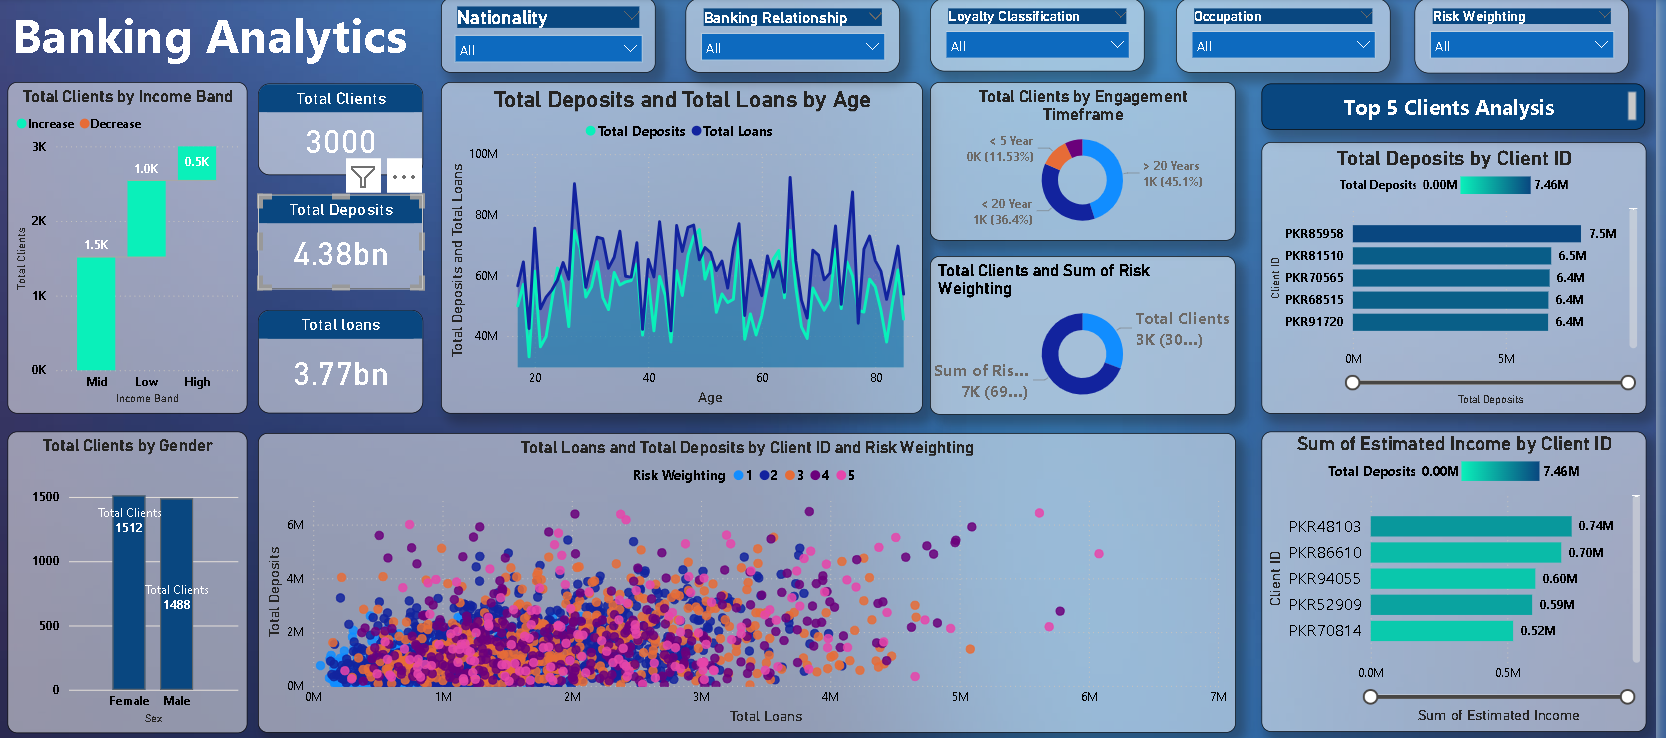

The dashboard page shown, as its layout file describes it:
{"tool":"powerbi","page":{"name":" visualization ","canvas":[1700,770],"ordinal":0},"visuals":[{"type":"card","title":"Total Clients","fields":{"Values":["Basic Calculations.Total Clients"]},"box":[267.6,87.7,169.2,93.8],"z":0},{"type":"textbox","box":[10.2,0,426.5,75.1],"z":1000},{"type":"slicer","fields":{"Values":["Banking_Clients.Nationality"]},"box":[455.7,0,220.2,76.4],"z":2000},{"type":"slicer","fields":{"Values":["Banking_Clients.Loyalty Classification"]},"box":[957.3,0,220.2,75.1],"z":3000},{"type":"slicer","fields":{"Values":["Banking_Clients.Occupation"]},"box":[1208.1,0,220.2,76.4],"z":4000},{"type":"slicer","fields":{"Values":["Banking_Clients.Risk Weighting"]},"box":[1453.8,0,220.2,77.7],"z":5000},{"type":"card","title":"Total Deposits","fields":{"Values":["Basic Calculations.Total Loans"]},"box":[267.6,201.5,169.2,96.9],"z":6000},{"type":"card","title":"Total loans","fields":{"Values":["Basic Calculations.Total Deposits"]},"box":[267.6,319.9,169.2,106.1],"z":7000},{"type":"clusteredBarChart","fields":{"Y":["Basic Calculations.Total Deposits"],"Category":["Banking_Clients.Client ID"]},"box":[1297.2,147.7,394.6,278.8],"z":8000},{"type":"textbox","box":[1297.2,87.8,393.4,47.1],"z":9000},{"type":"clusteredBarChart","fields":{"Category":["Banking_Clients.Client ID"],"Y":["Sum(Banking_Clients.Estimated Income)"]},"box":[1297.2,444.3,394.6,308.1],"z":10000},{"type":"areaChart","fields":{"Category":["Banking_Clients.Age"],"Y":["Basic Calculations.Total Deposits","Basic Calculations.Total Loans"]},"box":[455.2,86.1,493.7,339.9],"z":11000},{"type":"slicer","fields":{"Values":["Banking_Clients.Banking Relationship"]},"box":[706.5,0,220.2,76.4],"z":12000},{"type":"scatterChart","fields":{"Series":["Banking_Clients.Risk Weighting"],"X":["Basic Calculations.Total Loans"],"Y":["Basic Calculations.Total Deposits"],"Category":["Banking_Clients.Client ID"]},"box":[267.6,446,1002.8,307.6],"z":13000},{"type":"donutChart","fields":{"Y":["Basic Calculations.Total Clients","Sum(Banking_Clients.Risk Weighting)"]},"box":[957.3,264.8,313.2,162.9],"z":14000},{"type":"donutChart","fields":{"Y":["Basic Calculations.Total Clients"],"Category":["Banking_Clients.Engagement Timeframe"]},"box":[957.3,86.6,313.2,162.9],"z":15000},{"type":"columnChart","title":"Total Clients by Gender","fields":{"Y":["Basic Calculations.Total Clients"],"Category":["Banking_Clients.Sex"]},"box":[10.8,444.5,246.1,309.1],"z":16000},{"type":"waterfallChart","fields":{"Y":["Basic Calculations.Total Clients"],"Category":["Banking_Clients.Income Band"]},"box":[10.8,86.1,246.1,339.9],"z":17000}]}

Visuals, with their boxes in screenshot pixels (x1, y1, x2, y2), scaled from the page's 1700x770 canvas onto the 1666x738 screenshot:
"Total Clients" card: left=262, top=84, right=428, bottom=174
textbox: left=10, top=0, right=428, bottom=72
slicer - Banking_Clients.Nationality: left=447, top=0, right=662, bottom=73
slicer - Banking_Clients.Loyalty Classification: left=938, top=0, right=1154, bottom=72
slicer - Banking_Clients.Occupation: left=1184, top=0, right=1400, bottom=73
slicer - Banking_Clients.Risk Weighting: left=1425, top=0, right=1641, bottom=74
"Total Deposits" card: left=262, top=193, right=428, bottom=286
"Total loans" card: left=262, top=307, right=428, bottom=408
clusteredBarChart - Basic Calculations.Total Deposits x Banking_Clients.Client ID: left=1271, top=142, right=1658, bottom=409
textbox: left=1271, top=84, right=1657, bottom=129
clusteredBarChart - Banking_Clients.Client ID x Sum(Banking_Clients.Estimated Income): left=1271, top=426, right=1658, bottom=721
areaChart - Banking_Clients.Age x Basic Calculations.Total Deposits: left=446, top=83, right=930, bottom=408
slicer - Banking_Clients.Banking Relationship: left=692, top=0, right=908, bottom=73
scatterChart - Banking_Clients.Risk Weighting x Basic Calculations.Total Loans: left=262, top=427, right=1245, bottom=722
donutChart - Basic Calculations.Total Clients x Sum(Banking_Clients.Risk Weighting): left=938, top=254, right=1245, bottom=410
donutChart - Basic Calculations.Total Clients x Banking_Clients.Engagement Timeframe: left=938, top=83, right=1245, bottom=239
"Total Clients by Gender" columnChart: left=11, top=426, right=252, bottom=722
waterfallChart - Basic Calculations.Total Clients x Banking_Clients.Income Band: left=11, top=83, right=252, bottom=408
